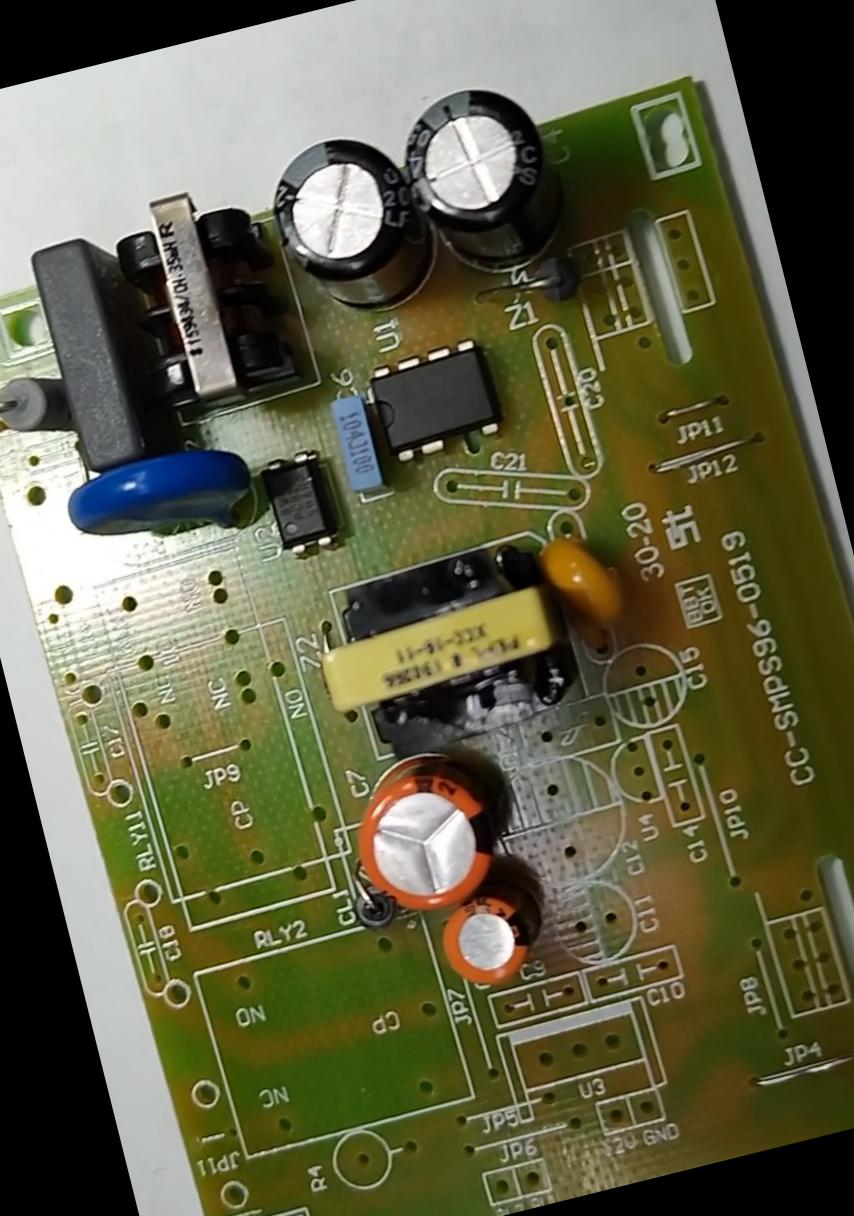Cap1: (331, 740, 519, 926)
Cap2: (423, 868, 560, 1004)
Cap3: (248, 116, 447, 338)
Cap4: (386, 67, 589, 292)
MOSFET: (359, 329, 511, 470)
Mov: (51, 428, 272, 576)
Resistor: (0, 362, 75, 454)
Transformer: (298, 530, 592, 778), (91, 166, 315, 432)
